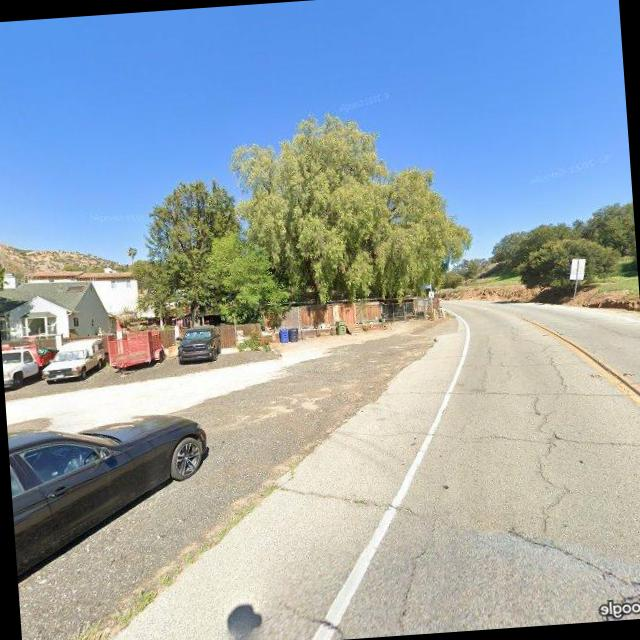crack: (349, 404, 640, 467), (506, 520, 640, 602), (389, 370, 630, 414), (285, 469, 430, 526), (389, 530, 443, 630), (544, 344, 570, 396)
